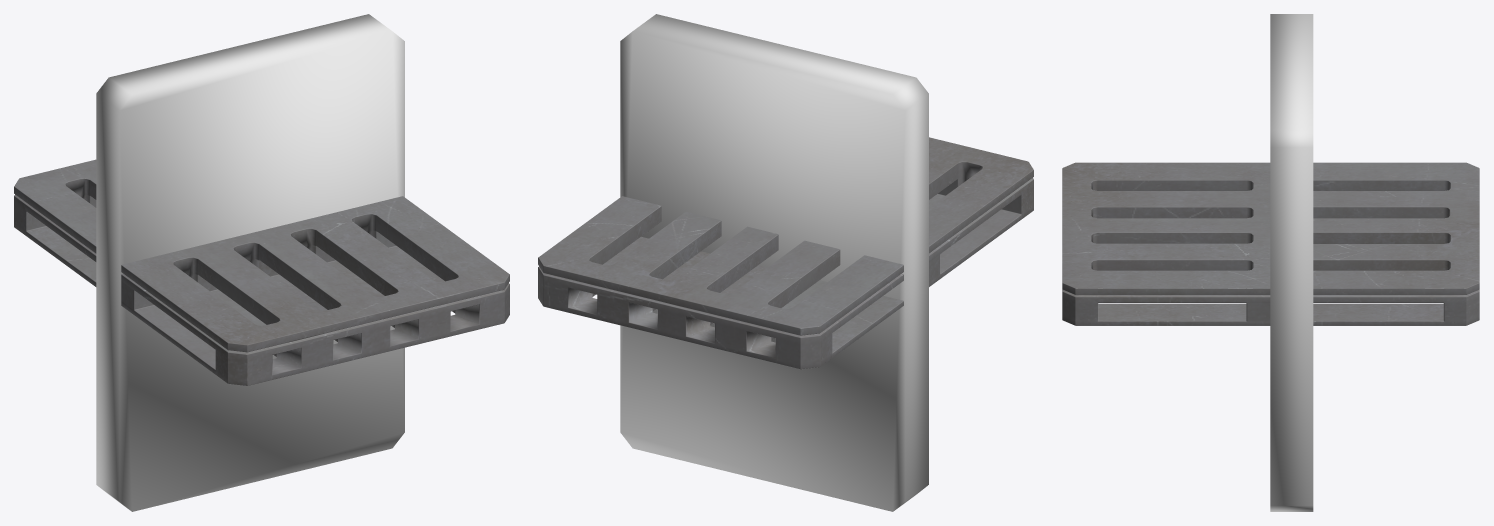
The model's file is SM_Pallet.fbx.
3 views of the same model, side by side, from view 1: azimuth 30°, elevation 25°; view 2: azimuth 150°, elevation 25°; view 3: azimuth 270°, elevation 25° (orthographic). The views are drawn at different scales.
Parts seen in each view (by area): view 1: SM_Pallet_ConvexHulls, SM_Pallet; view 2: SM_Pallet_ConvexHulls, SM_Pallet; view 3: SM_Pallet, SM_Pallet_ConvexHulls.
Part boxes in pixels (x1,y1,x2,y2): SM_Pallet_ConvexHulls: [96, 14, 404, 511]; SM_Pallet: [14, 159, 509, 385]; SM_Pallet_ConvexHulls: [620, 14, 928, 511]; SM_Pallet: [538, 137, 1033, 369]; SM_Pallet: [1062, 162, 1479, 325]; SM_Pallet_ConvexHulls: [1270, 14, 1313, 511].
Size of the model in its own units: 1.11 by 1.55 by 1.54.
